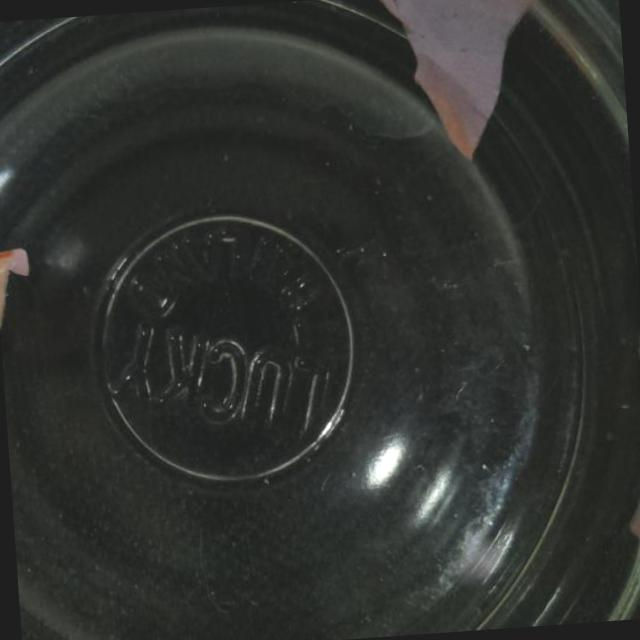fiber: (378, 0, 555, 169), (625, 359, 640, 558), (0, 249, 34, 325)
